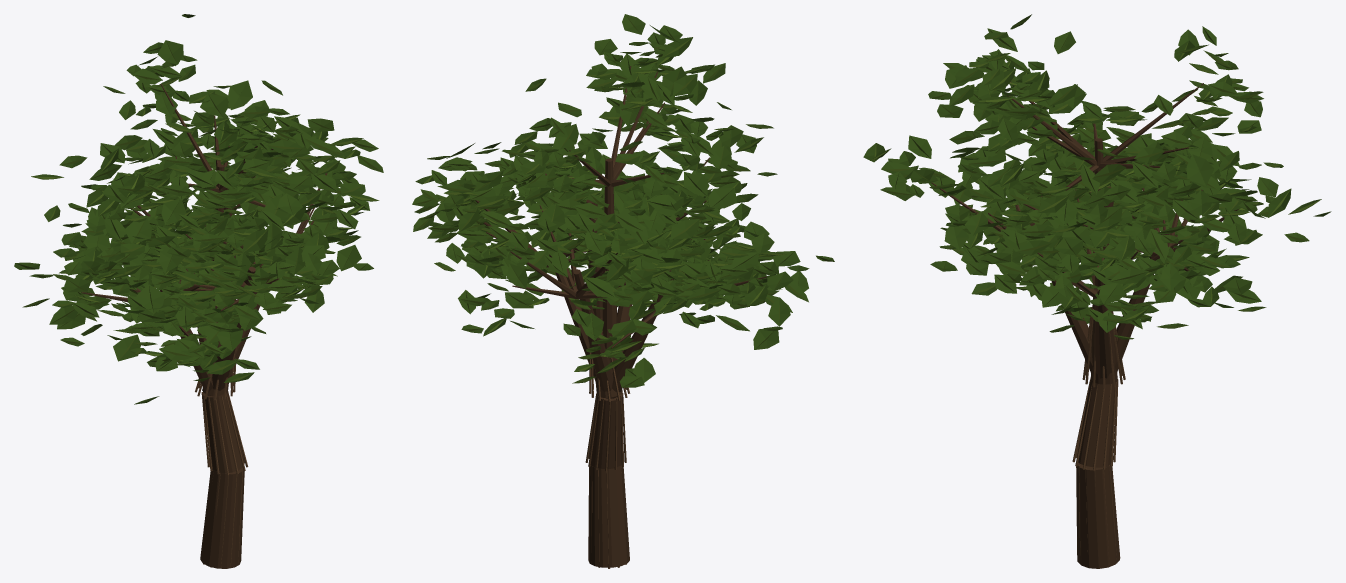
File: orchard_tree_1.dae
3 renders of one model, left to right at view 1: azimuth 30°, elevation 25°; view 2: azimuth 150°, elevation 25°; view 3: azimuth 270°, elevation 25°, orthographic. The views are drawn at different scales.
Visible parts, largest first — view 1: Tree (×4); view 2: Tree (×4); view 3: Tree (×4).
Boxes of the visible parts, x1,y1,x2,y2 form: Tree (×4): [14, 14, 383, 568]; Tree (×4): [412, 14, 834, 568]; Tree (×4): [863, 14, 1331, 568].
Bounding box in the file's own units: 2.89 × 2.99 × 3.81.
